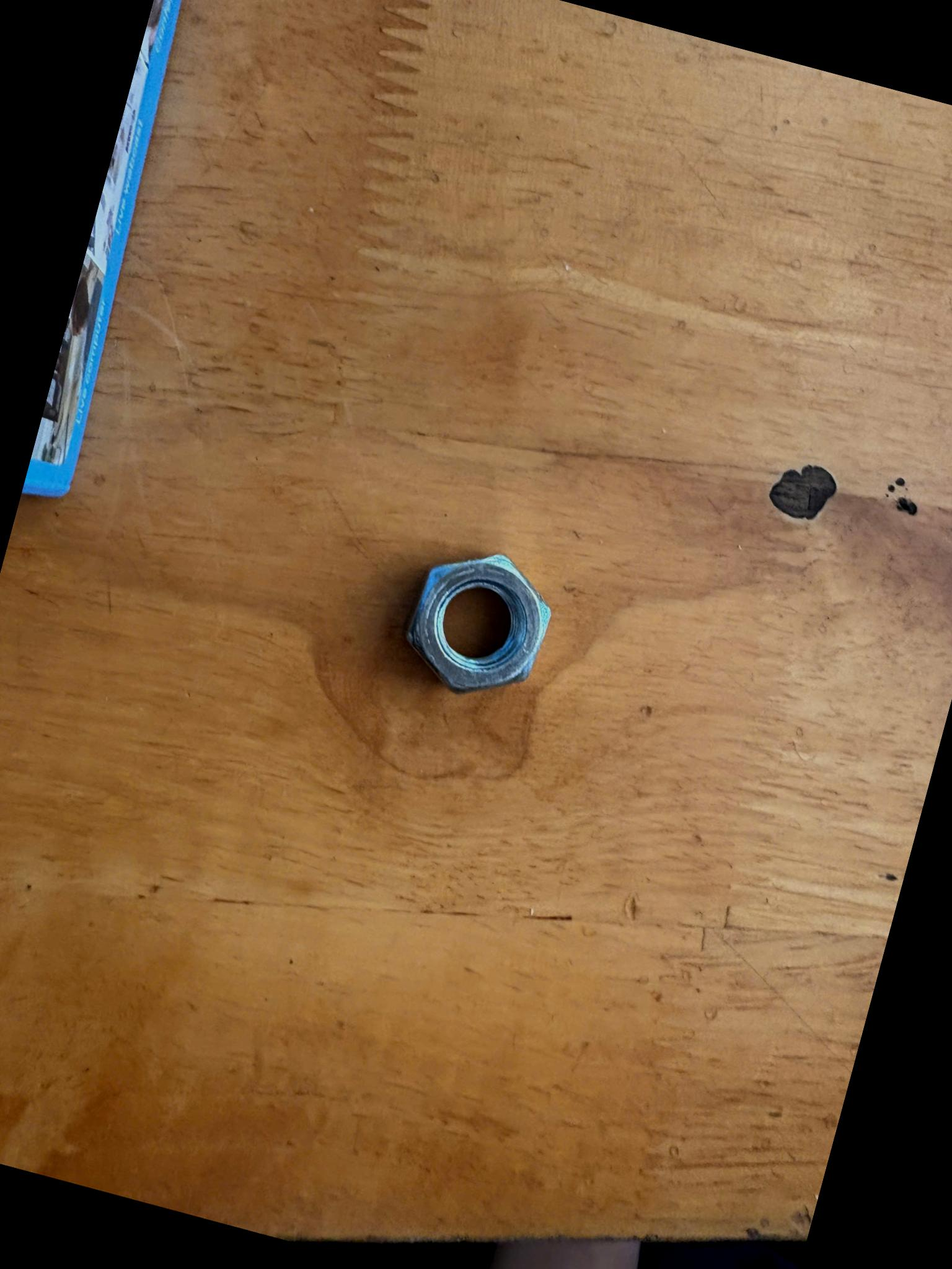nut: (379, 509, 588, 732)
